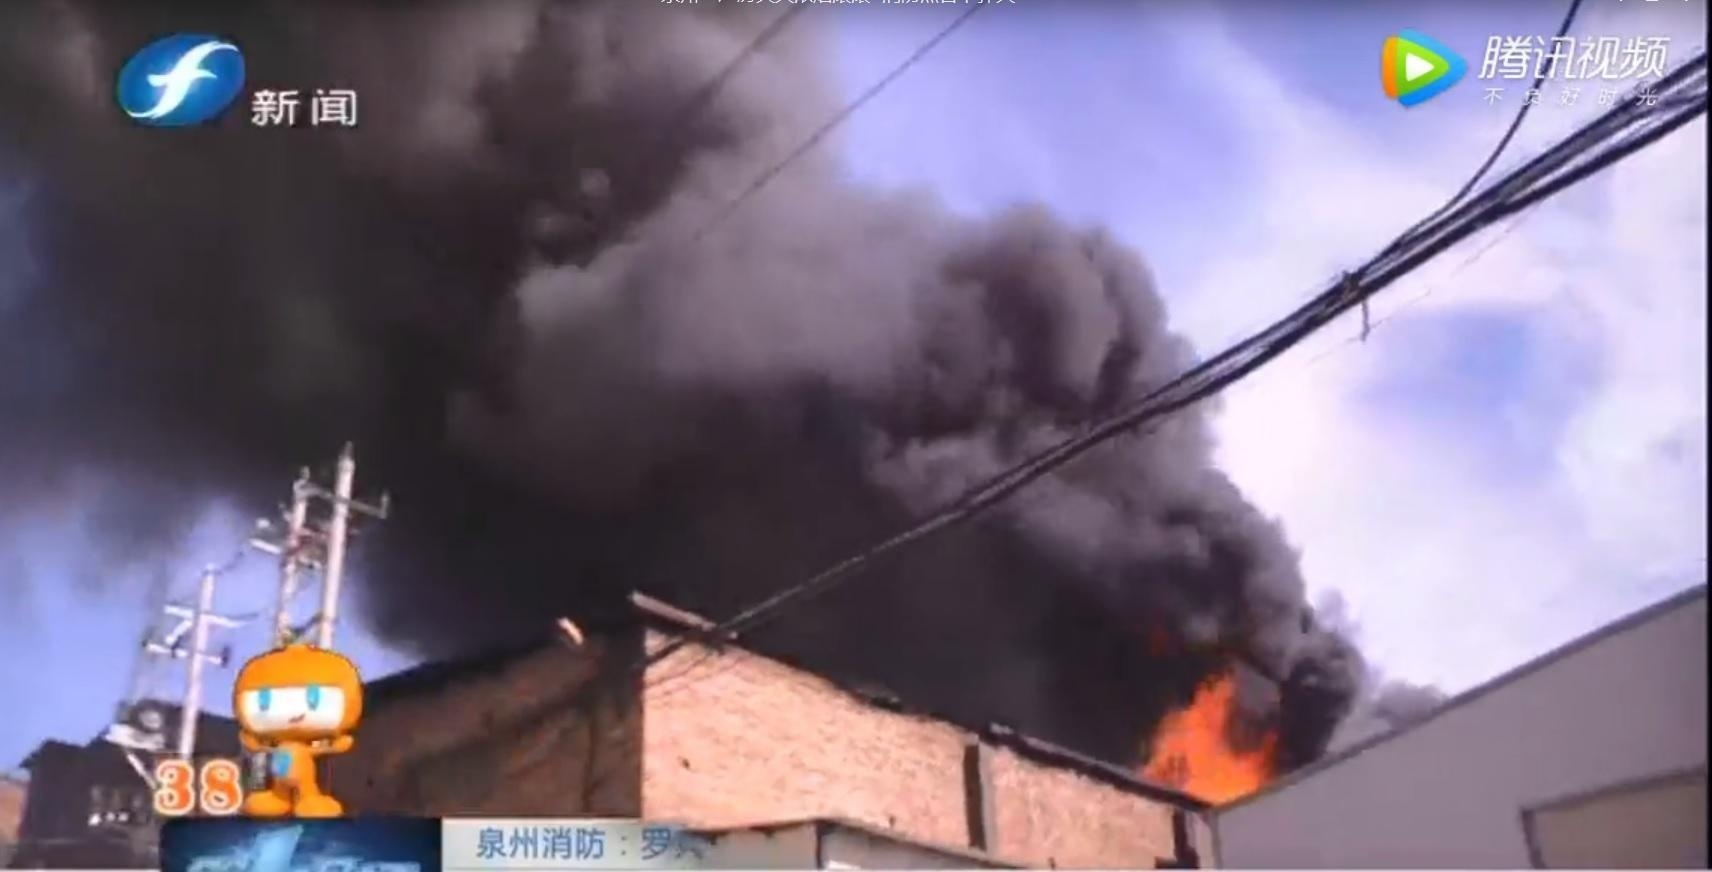fire: (1144, 671, 1278, 803)
